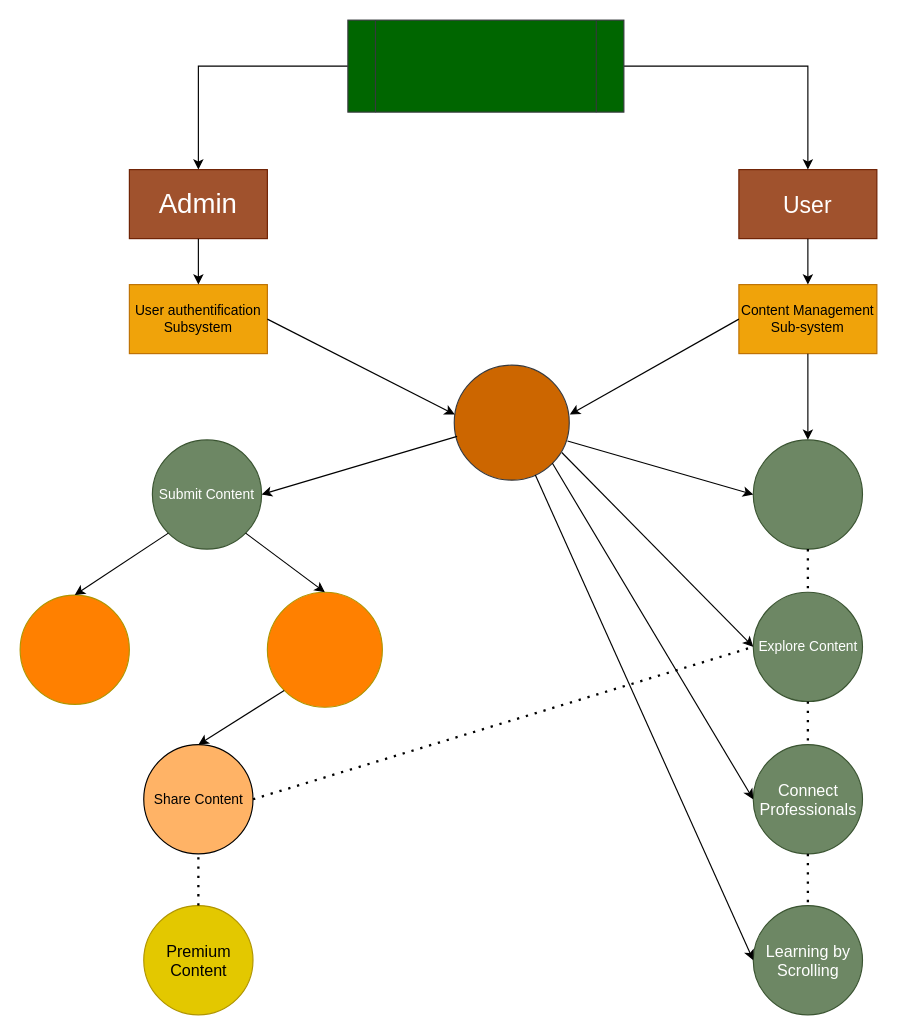
Image size: 897x1035. Some labels were removed from this diagram. Each missing label, with the box of its shape:
Content Approval: (266, 591, 382, 707)
Content Rejection: (19, 594, 129, 704)
Customize Profile: (752, 439, 862, 549)
SAMEdu: (347, 19, 624, 112)
User Creates Profile: (453, 364, 569, 480)
